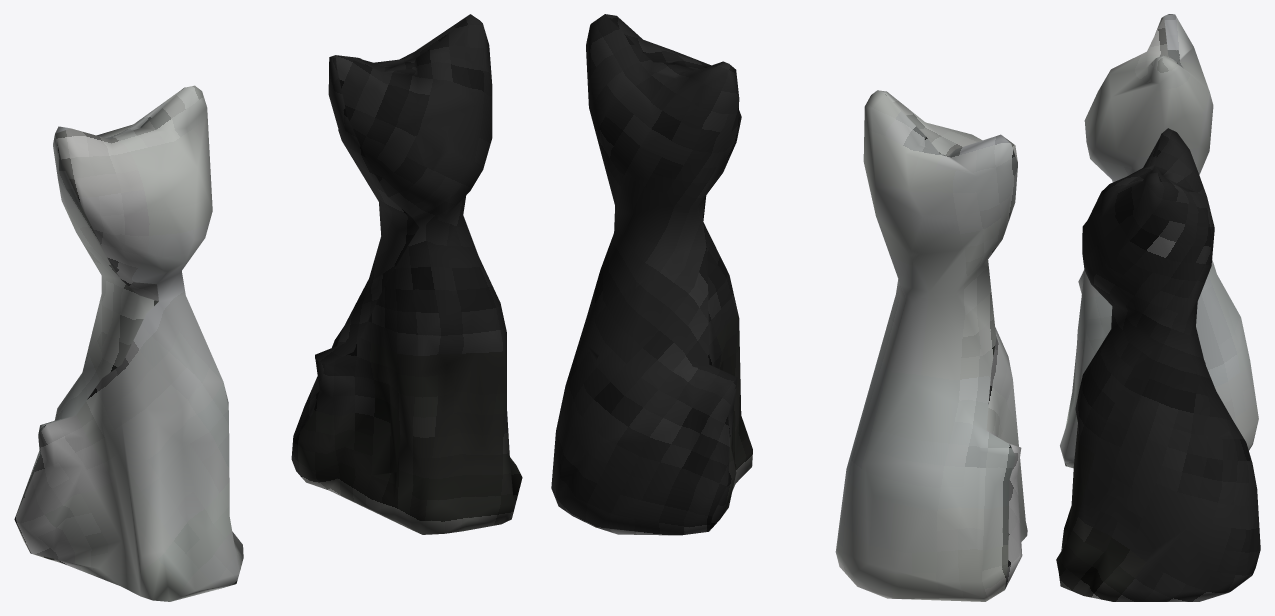
3 renders of one model, left to right at view 1: azimuth 30°, elevation 25°; view 2: azimuth 150°, elevation 25°; view 3: azimuth 270°, elevation 25°, orthographic. The views are drawn at different scales.
Visible parts, largest first — view 1: Object; view 2: Object; view 3: Object.
Part boxes in pixels (x1,y1,x2,y2): Object: (14, 14, 522, 601); Object: (551, 14, 1027, 601); Object: (1056, 14, 1260, 601).
Bounding box in the file's own units: 0.1178 × 0.1148 × 0.0502.
Materials: 1 (1 with a texture image).
